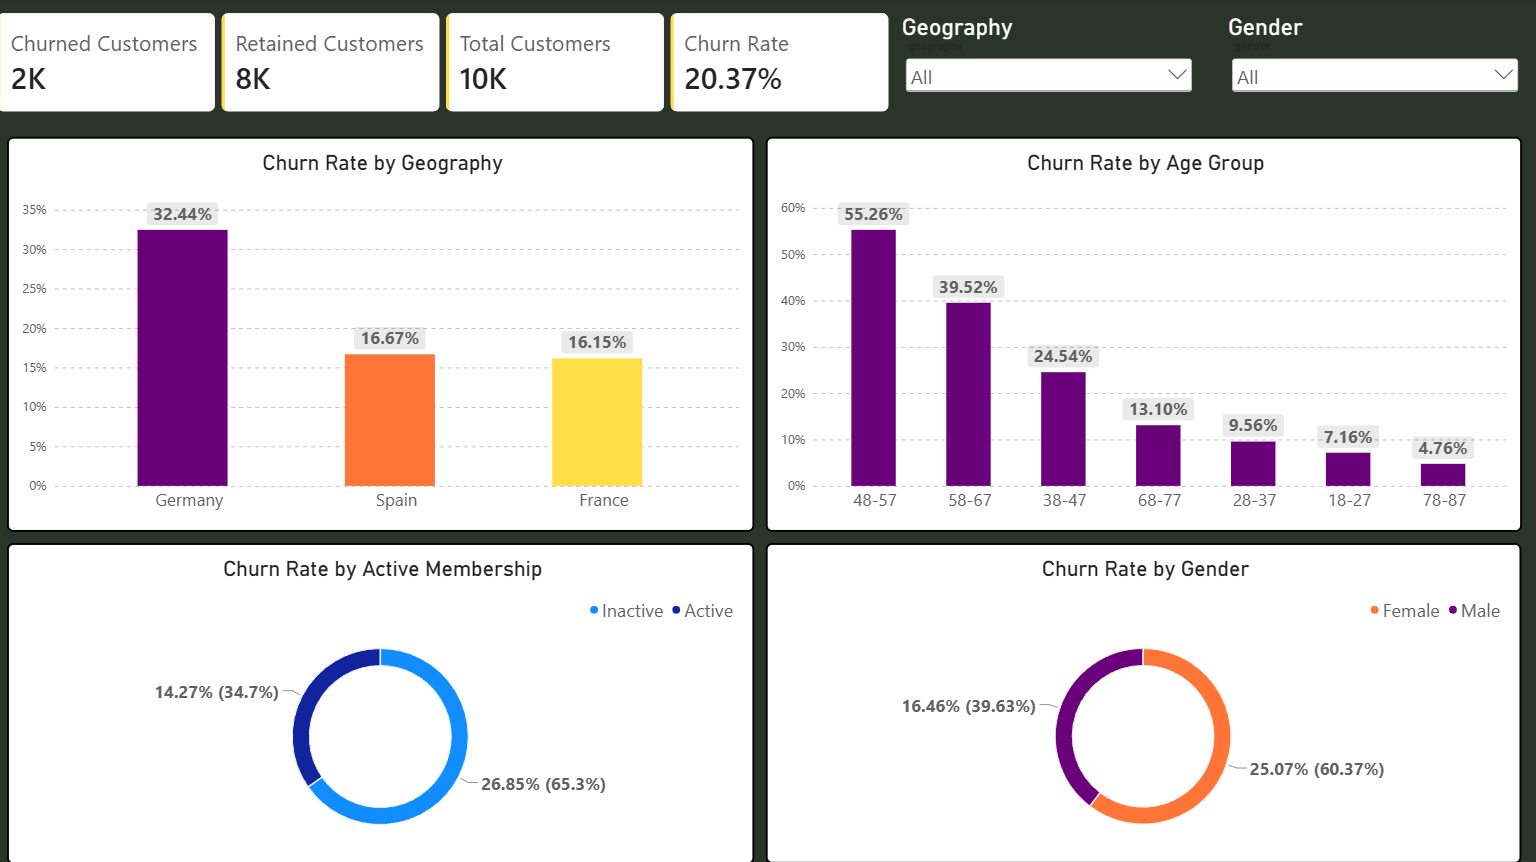

The dashboard page shown, as its layout file describes it:
{"tool":"powerbi","page":{"name":"Churn Overview","canvas":[1920,1080],"ordinal":0},"visuals":[{"type":"cardVisual","fields":{"Data":["Churn_Modelling_clean.Churned Customers","Churn_Modelling_clean.Retained Customers","Churn_Modelling_clean.Total Customers new","Churn_Modelling_clean.Churn Rate"]},"box":[0,0,1112,123.6],"z":0},{"type":"clusteredColumnChart","title":"Churn Rate by Geography","fields":{"Category":["Churn_Modelling_clean.geography"],"Y":["Churn_Modelling_clean.Churn Rate"]},"box":[0,140.3,944.5,492.1],"z":1},{"type":"clusteredColumnChart","title":"Churn Rate by Age Group ","fields":{"Category":["Churn_Modelling_clean.Age group"],"Y":["Churn_Modelling_clean.Churn Rate"]},"box":[959.2,140.3,961.3,492.1],"z":2},{"type":"donutChart","title":"Churn Rate by Gender","fields":{"Category":["Churn_Modelling_clean.gender"],"Y":["Churn_Modelling_clean.Churn Rate"]},"box":[959.2,651.3,942.4,400],"z":3},{"type":"donutChart","title":"Churn Rate by Active Membership","fields":{"Category":["Churn_Modelling_clean.Membership Status"],"Y":["Churn_Modelling_clean.Churn Rate"]},"box":[0,649.2,944.5,400],"z":4},{"type":"slicer","title":"Geography","fields":{"Values":["Churn_Modelling_clean.geography"]},"box":[1128.8,0,366.5,123.6],"z":5},{"type":"slicer","title":"Gender","fields":{"Values":["Churn_Modelling_clean.gender"]},"box":[1535.1,0,366.5,123.6],"z":6}]}

Visuals, with their boxes in screenshot pixels (x1, y1, x2, y2), scaled from the page's 1920x1080 canvas onto the 1536x862 screenshot:
cardVisual - Churn_Modelling_clean.Churned Customers x Churn_Modelling_clean.Retained Customers: <box>0,0,890,99</box>
"Churn Rate by Geography" clusteredColumnChart: <box>0,112,756,505</box>
"Churn Rate by Age Group " clusteredColumnChart: <box>767,112,1535,505</box>
"Churn Rate by Gender" donutChart: <box>767,520,1521,839</box>
"Churn Rate by Active Membership" donutChart: <box>0,518,756,837</box>
"Geography" slicer: <box>903,0,1196,99</box>
"Gender" slicer: <box>1228,0,1521,99</box>
